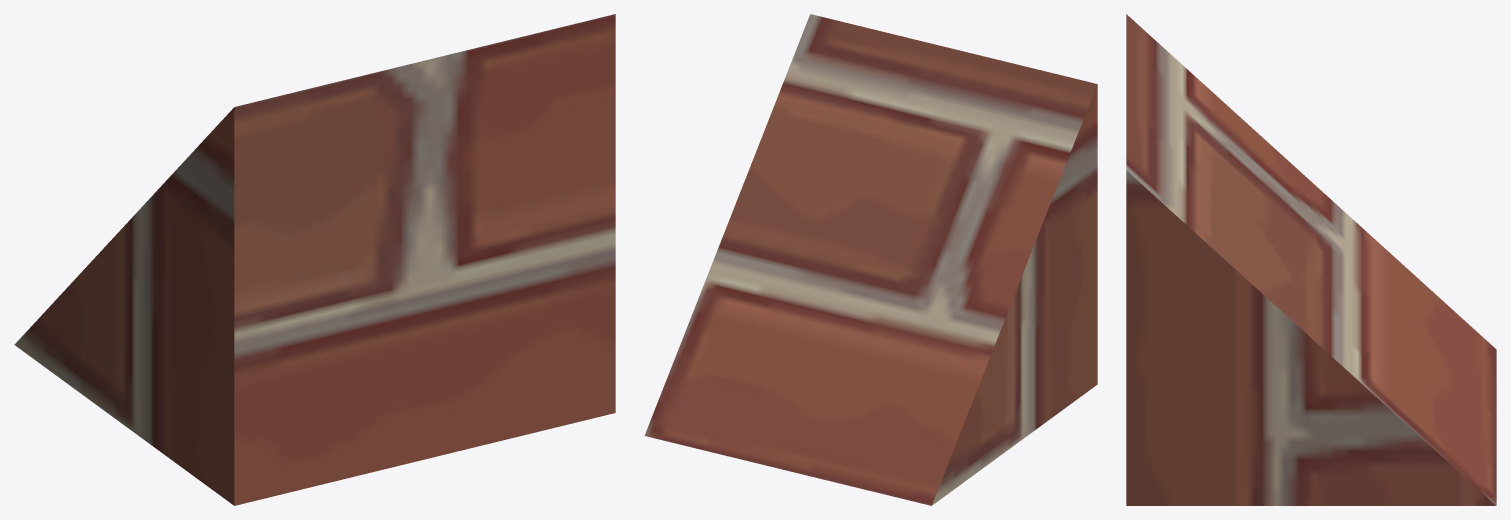
File: half_cube.obj
3 renders of one model, left to right at view 1: azimuth 30°, elevation 25°; view 2: azimuth 150°, elevation 25°; view 3: azimuth 270°, elevation 25°, orthographic. The views are drawn at different scales.
Parts seen in each view (by area): view 1: Cube_Cube.001; view 2: Cube_Cube.001; view 3: Cube_Cube.001.
Boxes of the visible parts, x1,y1,x2,y2 form: Cube_Cube.001: [14, 14, 615, 505]; Cube_Cube.001: [644, 14, 1097, 505]; Cube_Cube.001: [1126, 14, 1496, 505].
Bounding box in the file's own units: 2 × 2 × 2.
